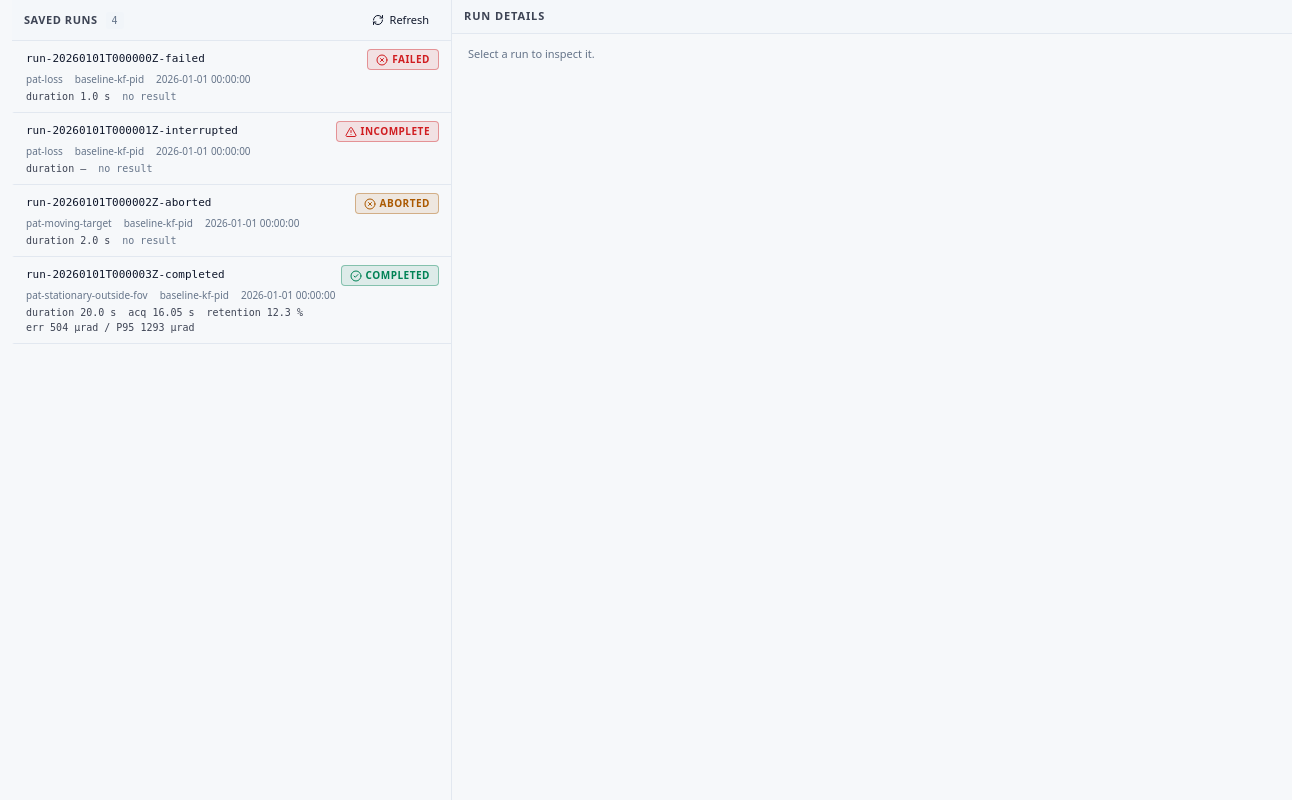
Scenario: verifying a summary › reports a mismatch when the stored summary has been edited
Click the button with aria-label "Open run run-20260101T000003Z-completed": coordinates (232, 300) x1=12 y1=257 x2=451 y2=344
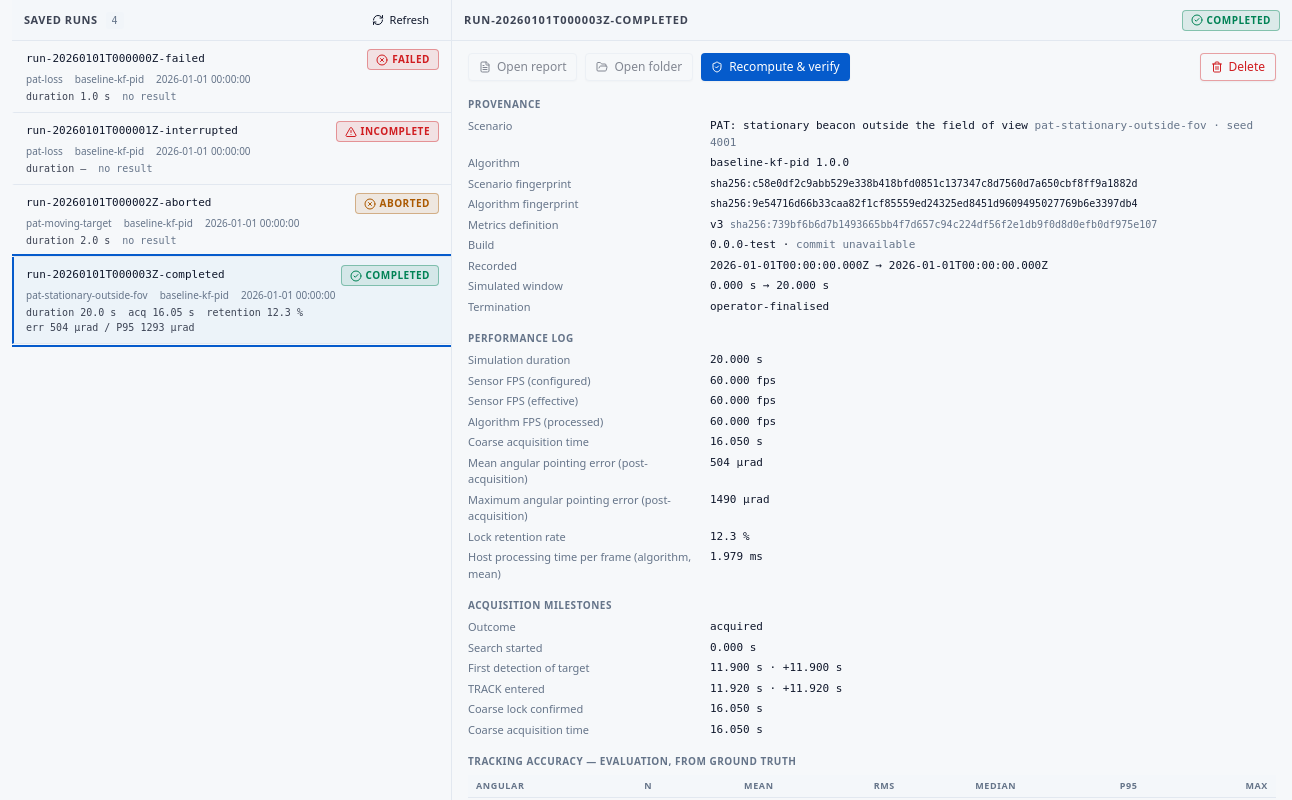
Click the button with aria-label "Recompute and verify summary": coordinates (775, 67) x1=701 y1=53 x2=850 y2=81
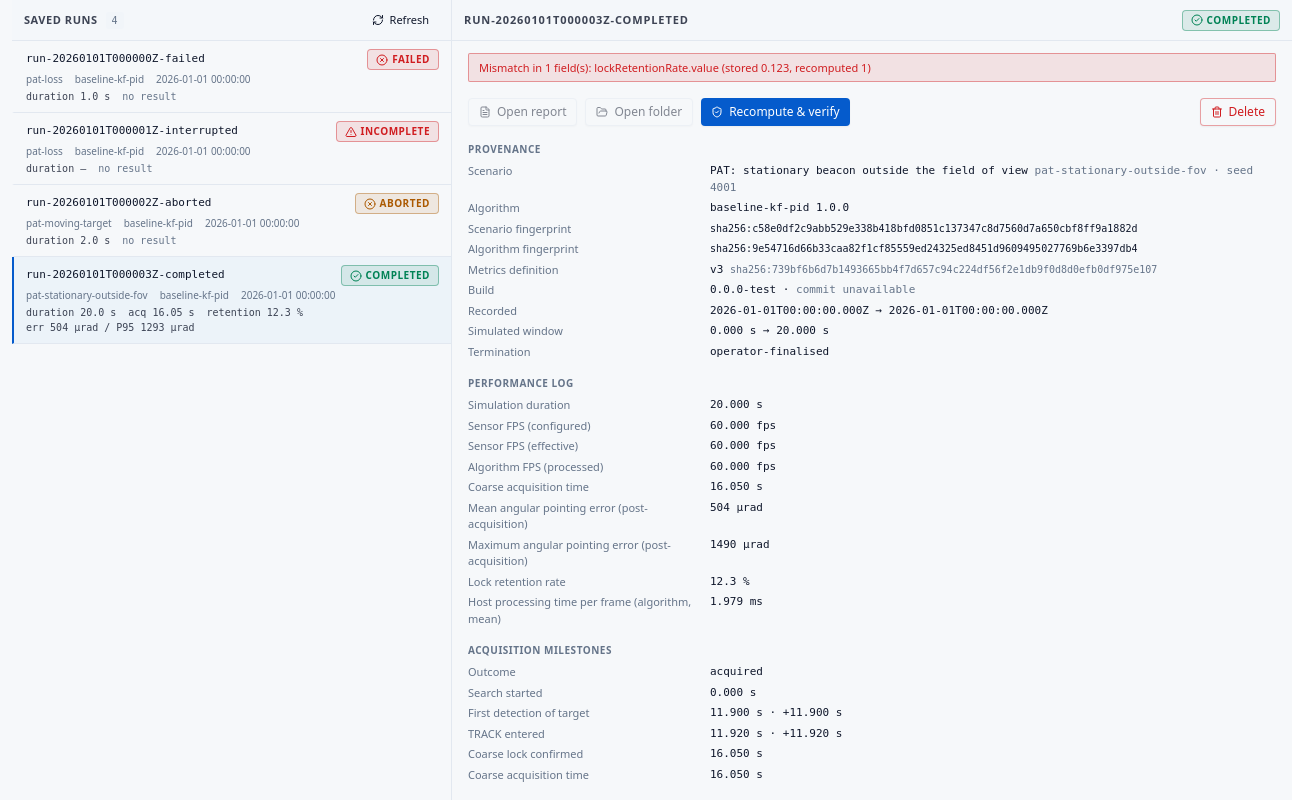
Expected: the message holds "Mismatch in 1 field\\(s\\): lockRetentionRate.value \\(stored 0.123", x1=468 y1=53 x2=1276 y2=82
